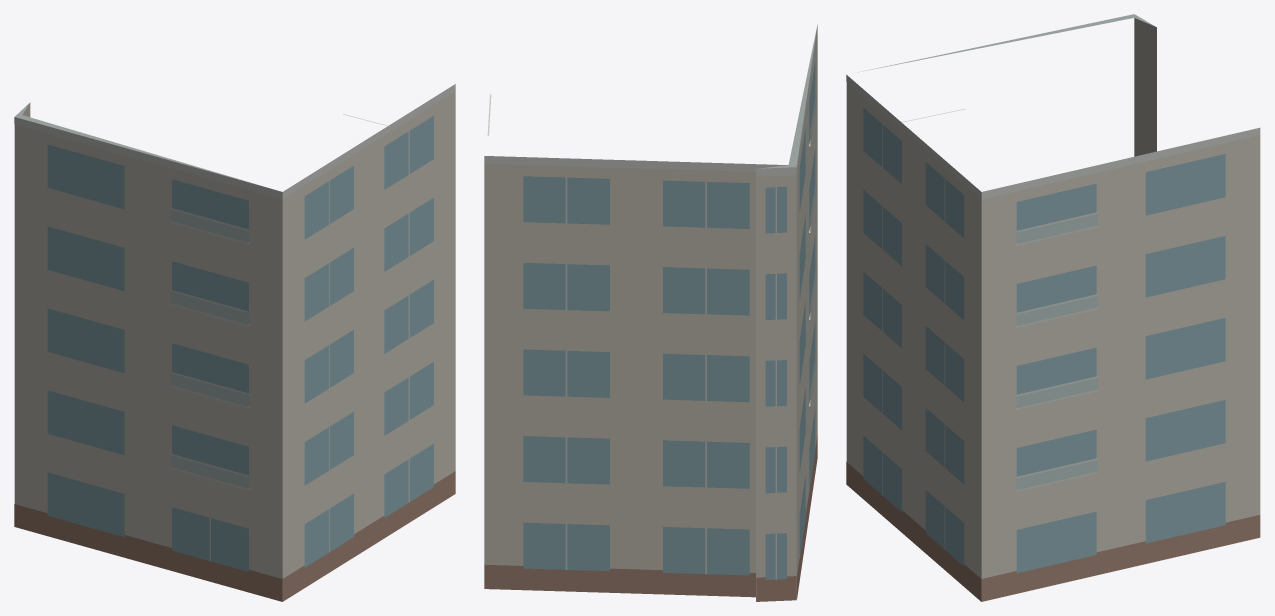
File: survey-upis-32833930.glb
3 renders of one model, left to right at view 1: azimuth 30°, elevation 25°; view 2: azimuth 150°, elevation 25°; view 3: azimuth 270°, elevation 25°, orthographic. The views are drawn at different scales.
Visible parts, largest first — view 1: survey-upis-32833930.tmp; view 2: survey-upis-32833930.tmp; view 3: survey-upis-32833930.tmp.
Part boxes in pixels (x1=…): survey-upis-32833930.tmp: x1=14, y1=84, x2=455, y2=601; survey-upis-32833930.tmp: x1=484, y1=24, x2=817, y2=601; survey-upis-32833930.tmp: x1=846, y1=14, x2=1260, y2=601.
Size of the model in its own units: 12.53 by 13.45 by 12.31.
